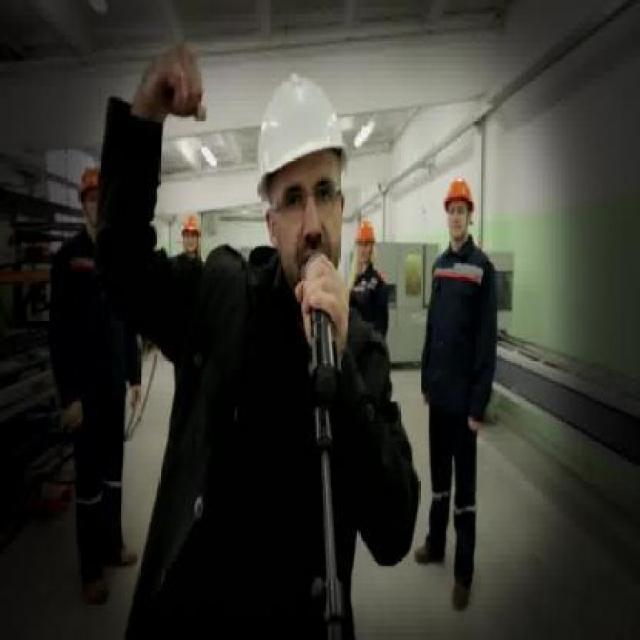Helmet: (257, 72, 349, 217), (442, 178, 476, 213), (78, 167, 99, 195), (354, 220, 375, 245), (181, 212, 199, 237)
Vest: (47, 229, 142, 573), (418, 236, 499, 578), (343, 258, 395, 336)
